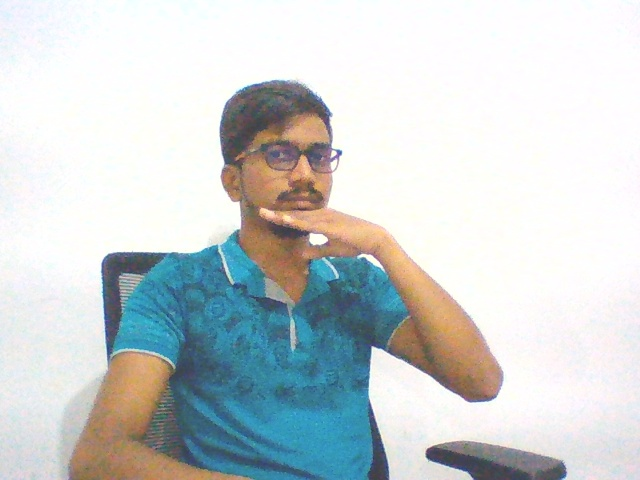elephant: (250, 198, 408, 266)
